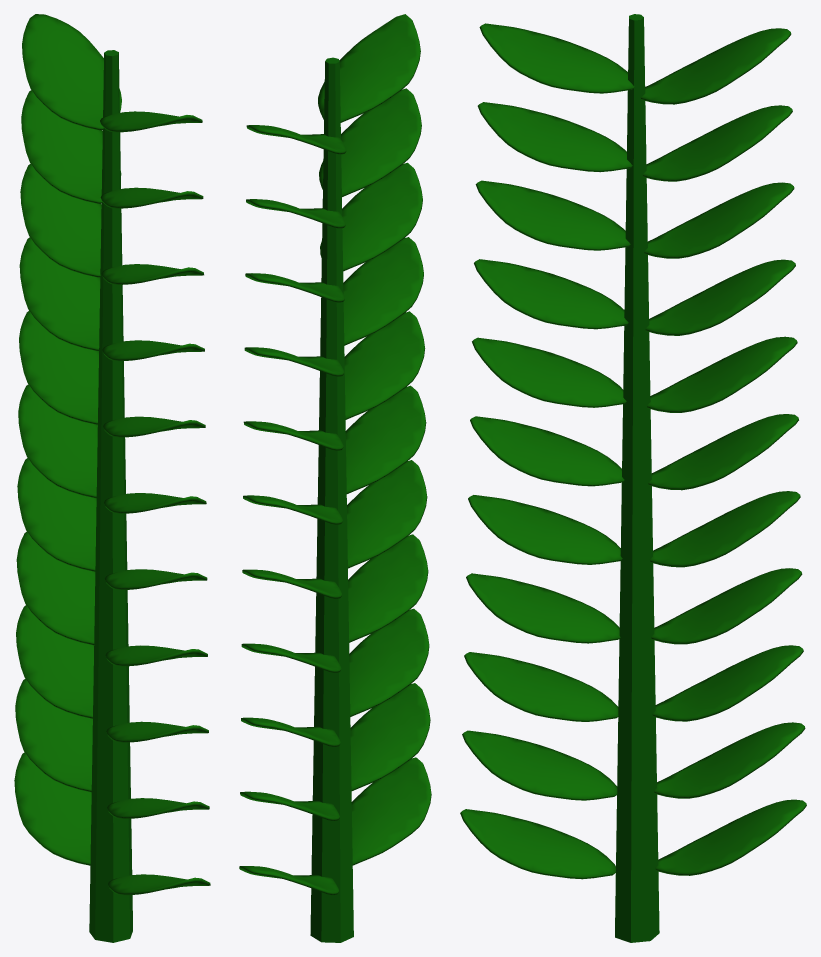
File: LEAF_V1.fbx
3 views of the same model, side by side, from view 1: azimuth 30°, elevation 25°; view 2: azimuth 150°, elevation 25°; view 3: azimuth 270°, elevation 25° (orthographic). The views are drawn at different scales.
Visible parts, largest first — view 1: 평면, 실린더, 평면.001; view 2: 평면.001, 실린더, 평면; view 3: 평면.001, 평면, 실린더.
Part boxes in pixels (x1,y1,x2,y2): 평면: (14,14,121,865); 실린더: (89,50,132,942); 평면.001: (100,111,210,895); 평면.001: (318,14,431,865); 실린더: (310,57,353,942); 평면: (239,125,346,895); 평면.001: (460,23,634,879); 평면: (640,28,806,875); 실린더: (615,14,659,942).
Size of the model in its own units: 67.92 by 700 by 240.
